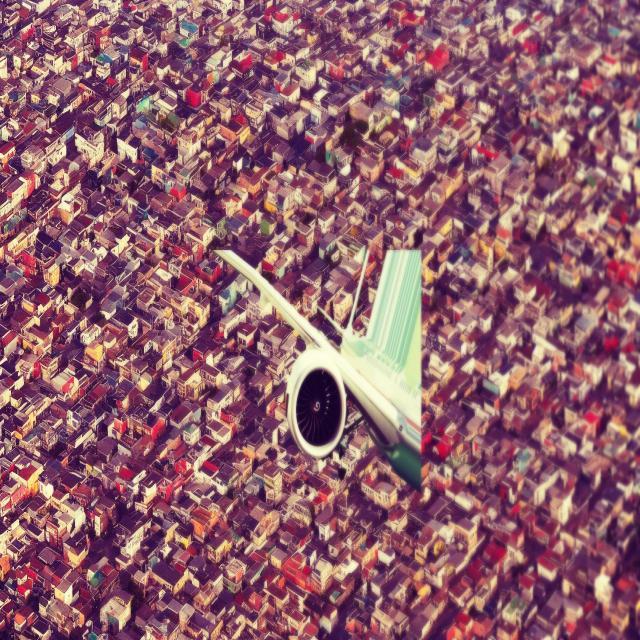airplane: (211, 242, 423, 493)
